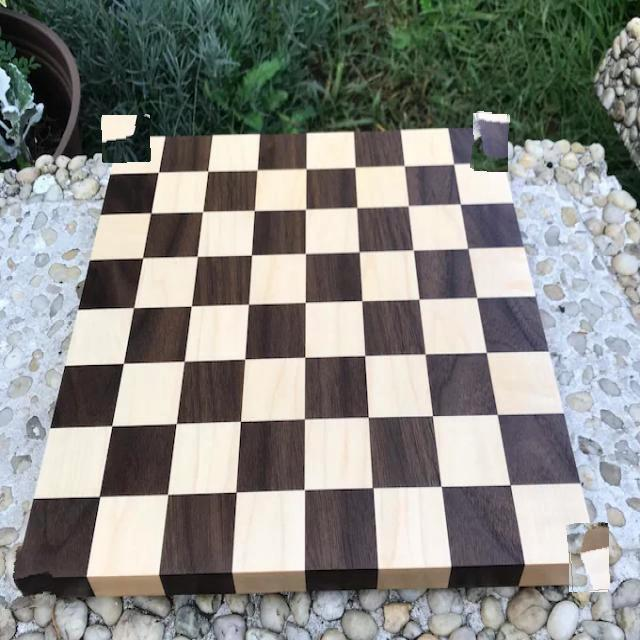chess-table-corners: (5, 545, 55, 609), (568, 523, 609, 593), (101, 115, 150, 162), (472, 112, 508, 172)
